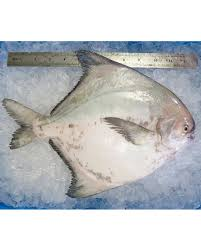Ikan Bawal: (13, 50, 196, 198)
